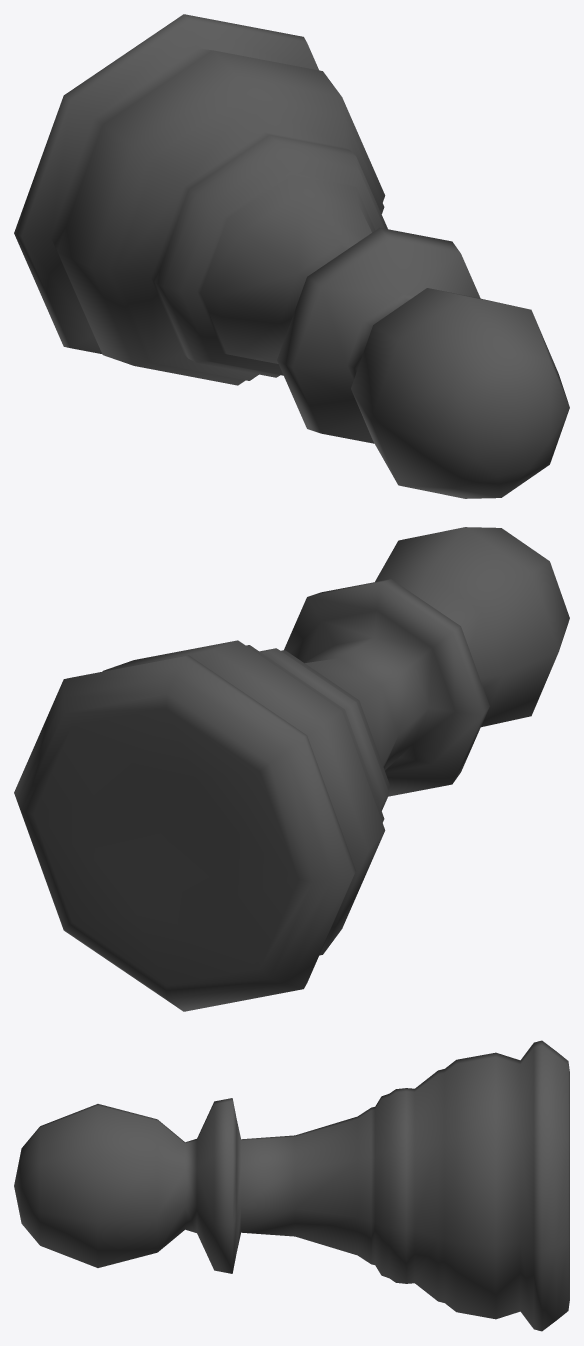
Rendered from BPawn.obj.
3 views of the same model, one above another, from view 1: azimuth 30°, elevation 25°; view 2: azimuth 150°, elevation 25°; view 3: azimuth 270°, elevation 25° (orthographic). The views are drawn at different scales.
Parts seen in each view (by area): view 1: 12937_Wooden_Chess_Pawn_Side_B_V2_L3; view 2: 12937_Wooden_Chess_Pawn_Side_B_V2_L3; view 3: 12937_Wooden_Chess_Pawn_Side_B_V2_L3.
Part boxes in pixels (x1,y1,x2,y2): 12937_Wooden_Chess_Pawn_Side_B_V2_L3: (14, 14, 569, 498); 12937_Wooden_Chess_Pawn_Side_B_V2_L3: (14, 527, 569, 1011); 12937_Wooden_Chess_Pawn_Side_B_V2_L3: (14, 1040, 569, 1331).
Bounding box in the file's own units: 1.14 × 1.14 × 2.04.
1 material, 1 textured.
